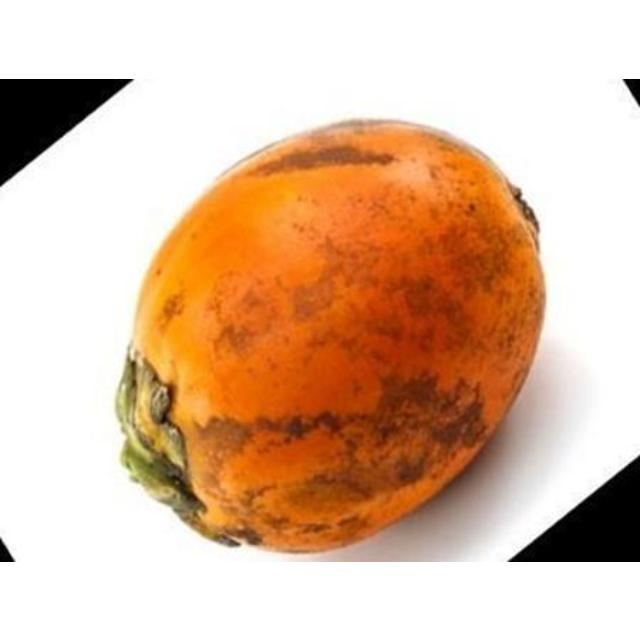good: (112, 119, 549, 554)
